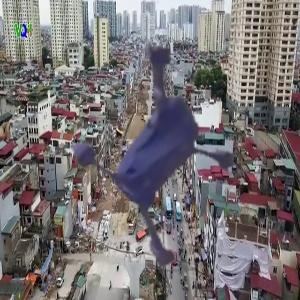drone: (24, 3, 267, 246)
